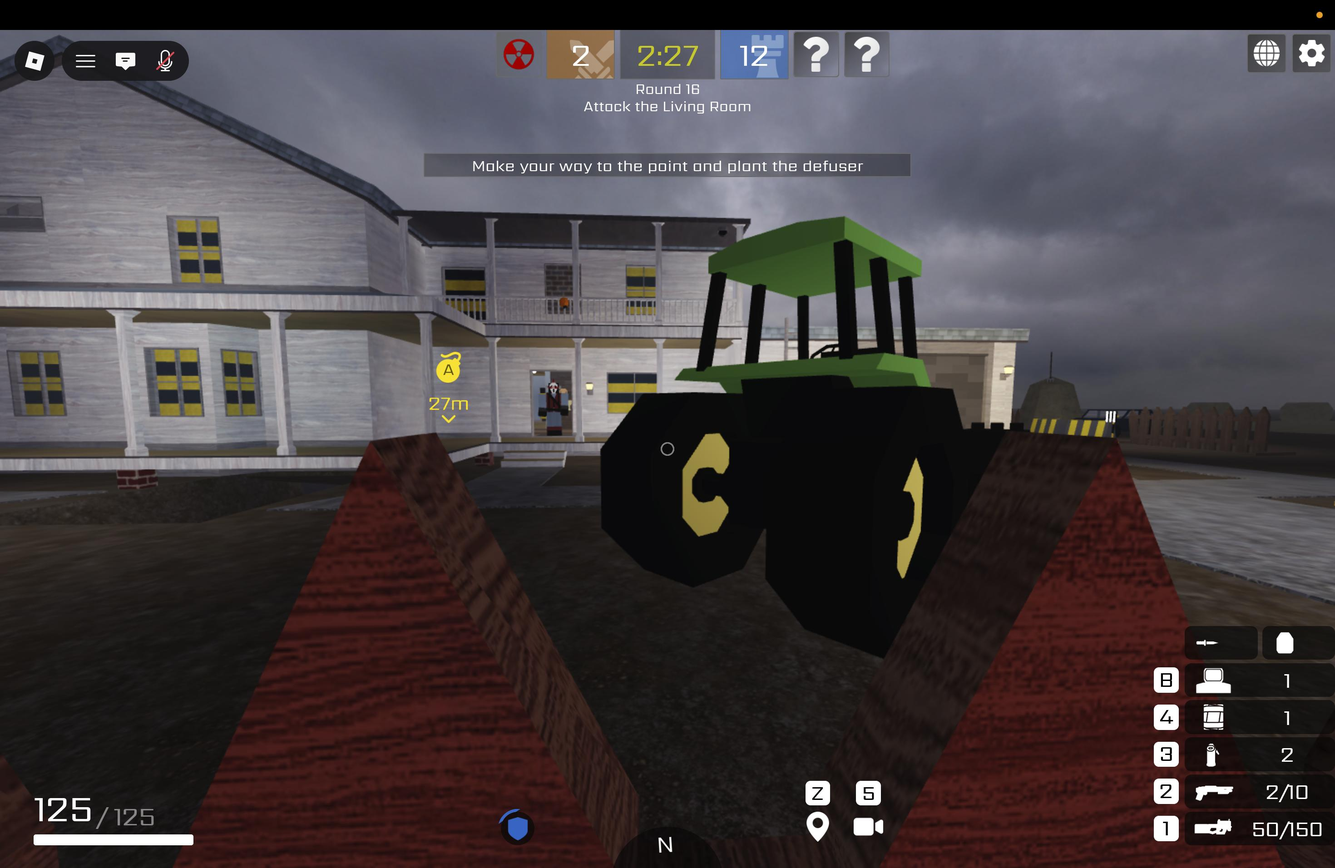enemy: (537, 380, 572, 436)
